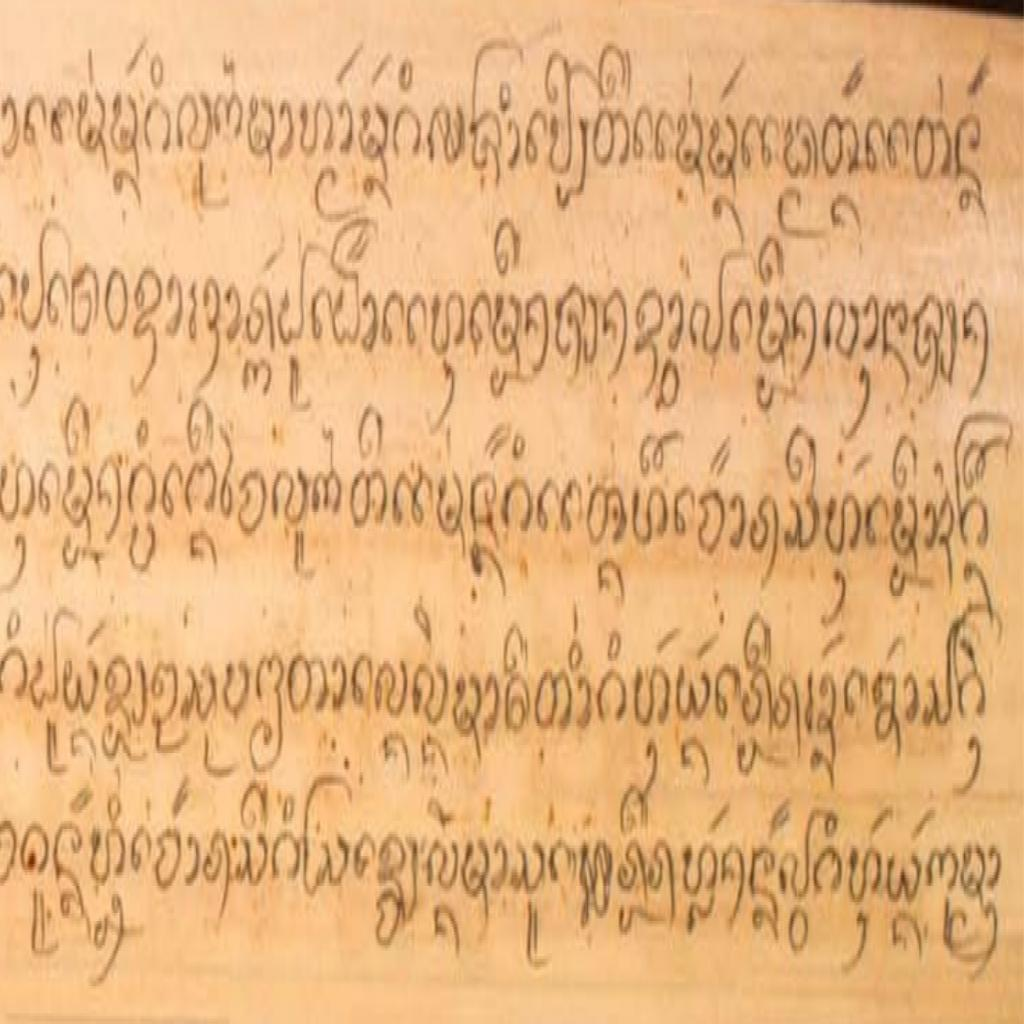LN015: (250, 647, 287, 780)
